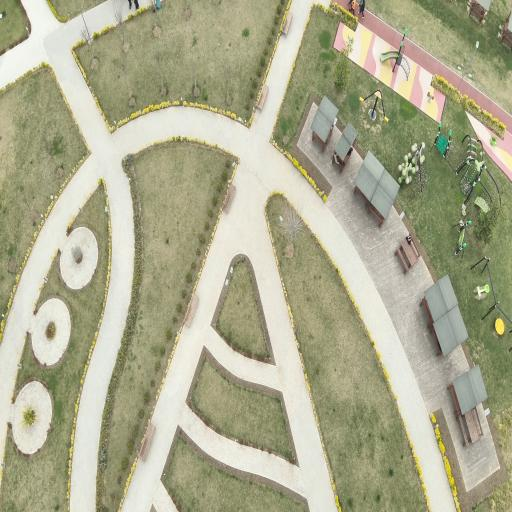person: (359, 0, 365, 18), (349, 0, 355, 15), (406, 235, 412, 244), (135, 0, 139, 9)
